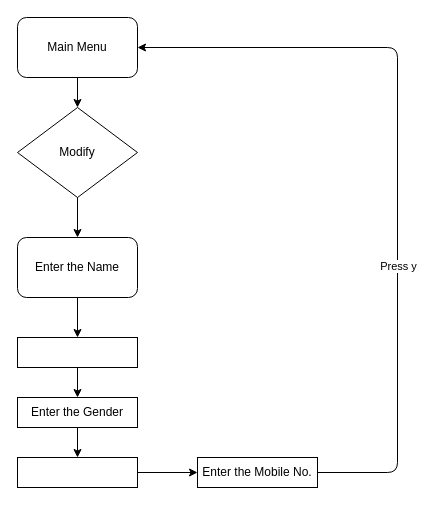
This 440x505 diagram has some shape labels left out. The centre of each missing label's shape, as x and y in pixels:
"Enter New Address" goes at [77,352].
"Enter the Email" goes at [77,472].
